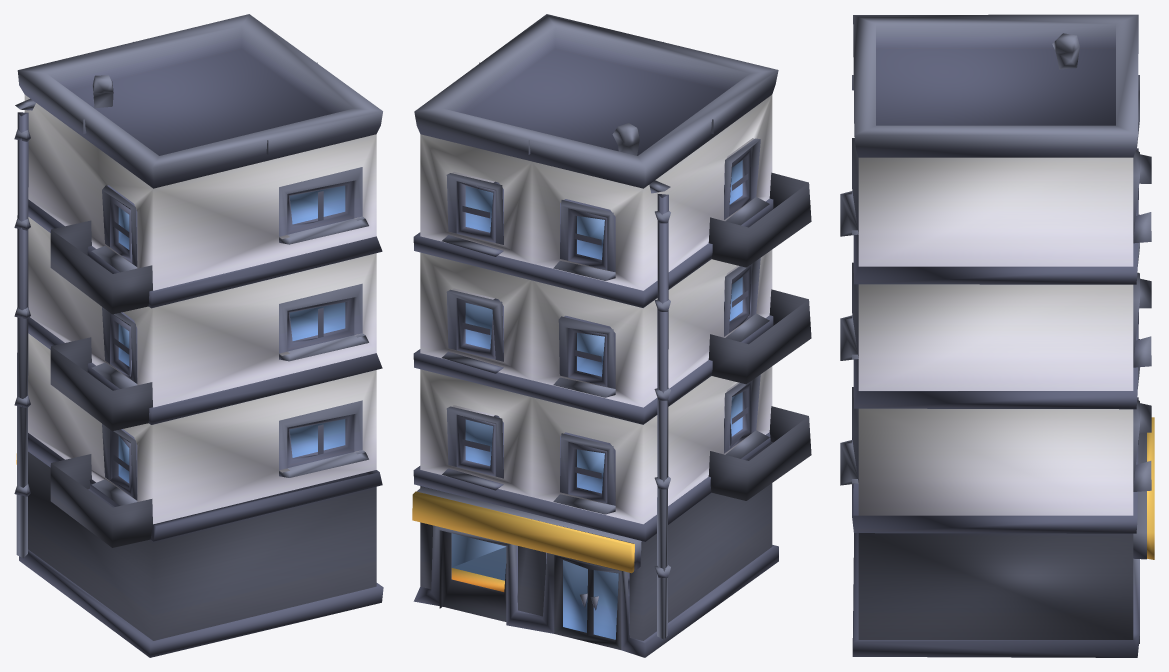
The model's file is tower-g-medium.glb.
3 renders of one model, left to right at view 1: azimuth 30°, elevation 25°; view 2: azimuth 150°, elevation 25°; view 3: azimuth 270°, elevation 25°, orthographic. The views are drawn at different scales.
Visible parts, largest first — view 1: building-g baked; view 2: building-g baked; view 3: building-g baked.
Boxes of the visible parts, x1=… form: building-g baked: x1=14, y1=14, x2=383, y2=657; building-g baked: x1=412, y1=14, x2=811, y2=657; building-g baked: x1=840, y1=14, x2=1154, y2=657.
Bounding box in the file's own units: 15.94 × 28 × 15.13.
Materials: 1 (1 with a texture image).
